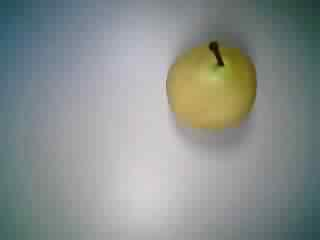pear: (151, 33, 260, 134)
